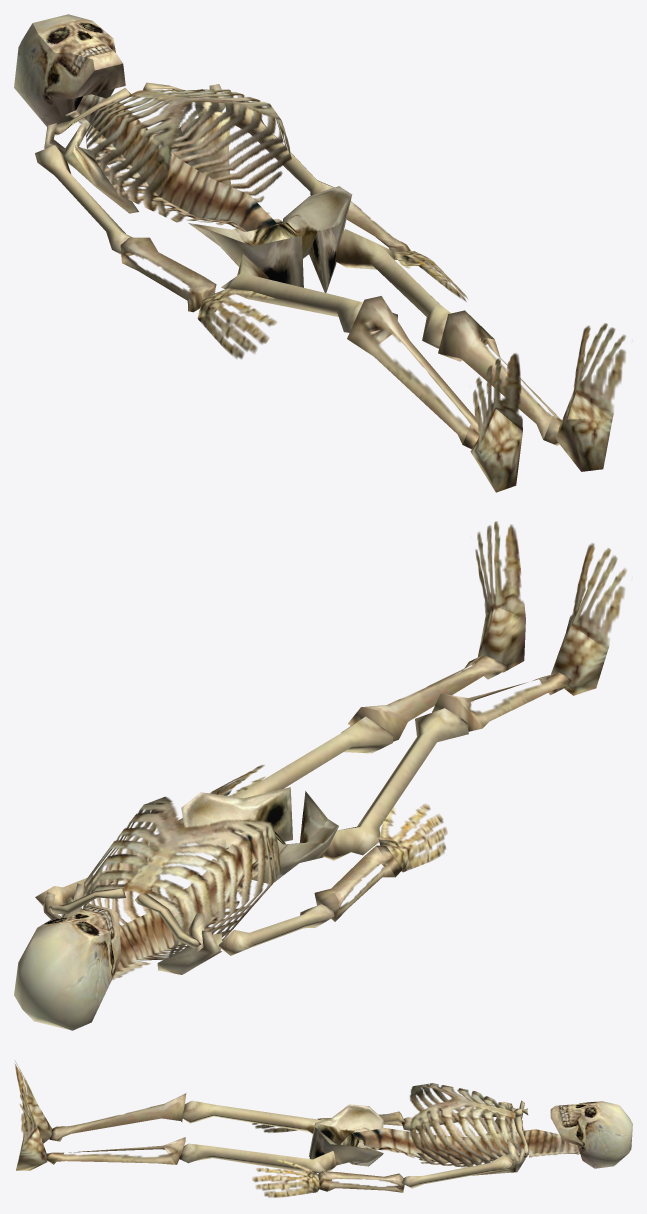
File: d_sk_lay2.glb
3 renders of one model, top to bottom at view 1: azimuth 30°, elevation 25°; view 2: azimuth 150°, elevation 25°; view 3: azimuth 270°, elevation 25°, orthographic. The views are drawn at different scales.
Parts seen in each view (by area): view 1: d_sk_lay2-col; view 2: d_sk_lay2-col; view 3: d_sk_lay2-col.
Boxes of the visible parts, x1=… form: d_sk_lay2-col: x1=14, y1=14, x2=625, y2=492; d_sk_lay2-col: x1=14, y1=521, x2=626, y2=1030; d_sk_lay2-col: x1=14, y1=1061, x2=632, y2=1197.
Bounding box in the file's own units: 0.4561 × 0.2927 × 1.77.
2 materials, 2 textured.
